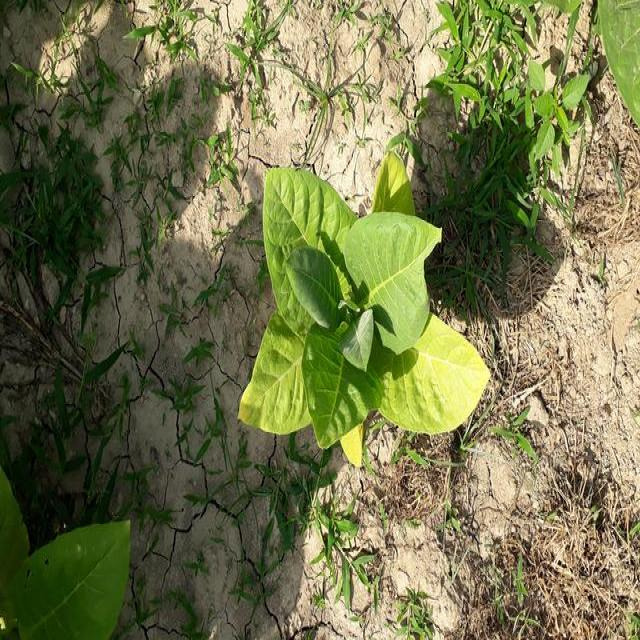crop: (243, 159, 484, 458), (0, 464, 125, 640), (587, 3, 640, 123)
